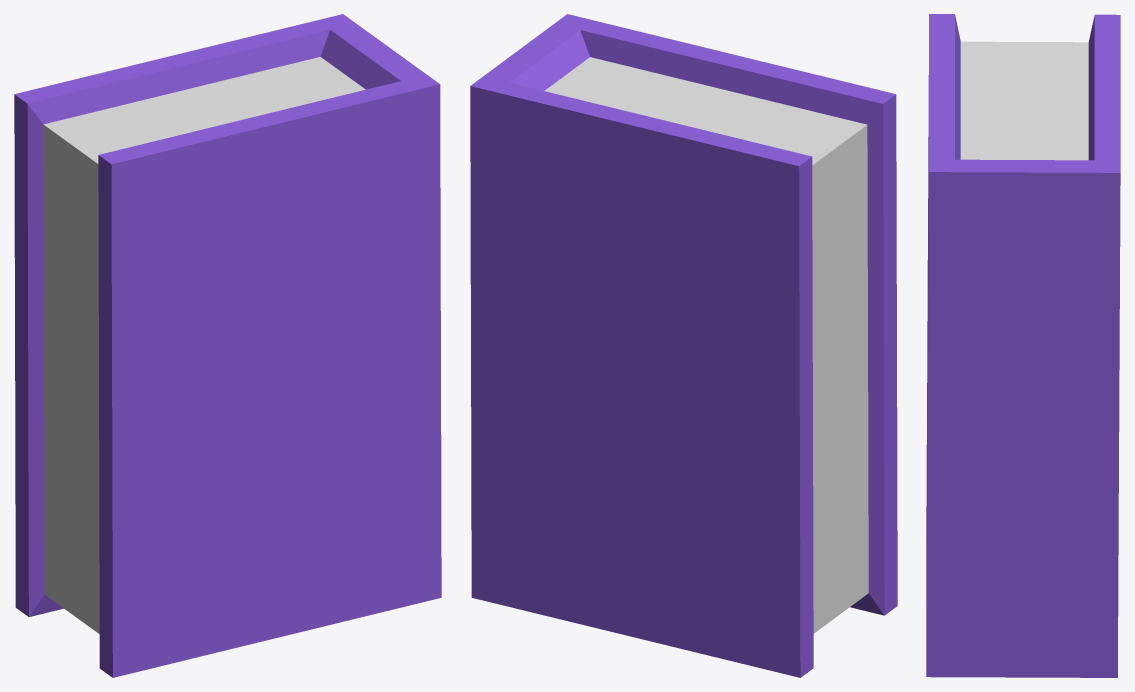
File: Libros.082.fbx
3 renders of one model, left to right at view 1: azimuth 30°, elevation 25°; view 2: azimuth 150°, elevation 25°; view 3: azimuth 270°, elevation 25°, orthographic.
Visible parts, largest first — view 1: Libros.082; view 2: Libros.082; view 3: Libros.082.
Part boxes in pixels (x1,y1,x2,y2): Libros.082: (14,14,441,677); Libros.082: (470,14,897,677); Libros.082: (926,14,1120,677).
Size of the model in its own units: 26.52 by 39.58 by 13.77.
